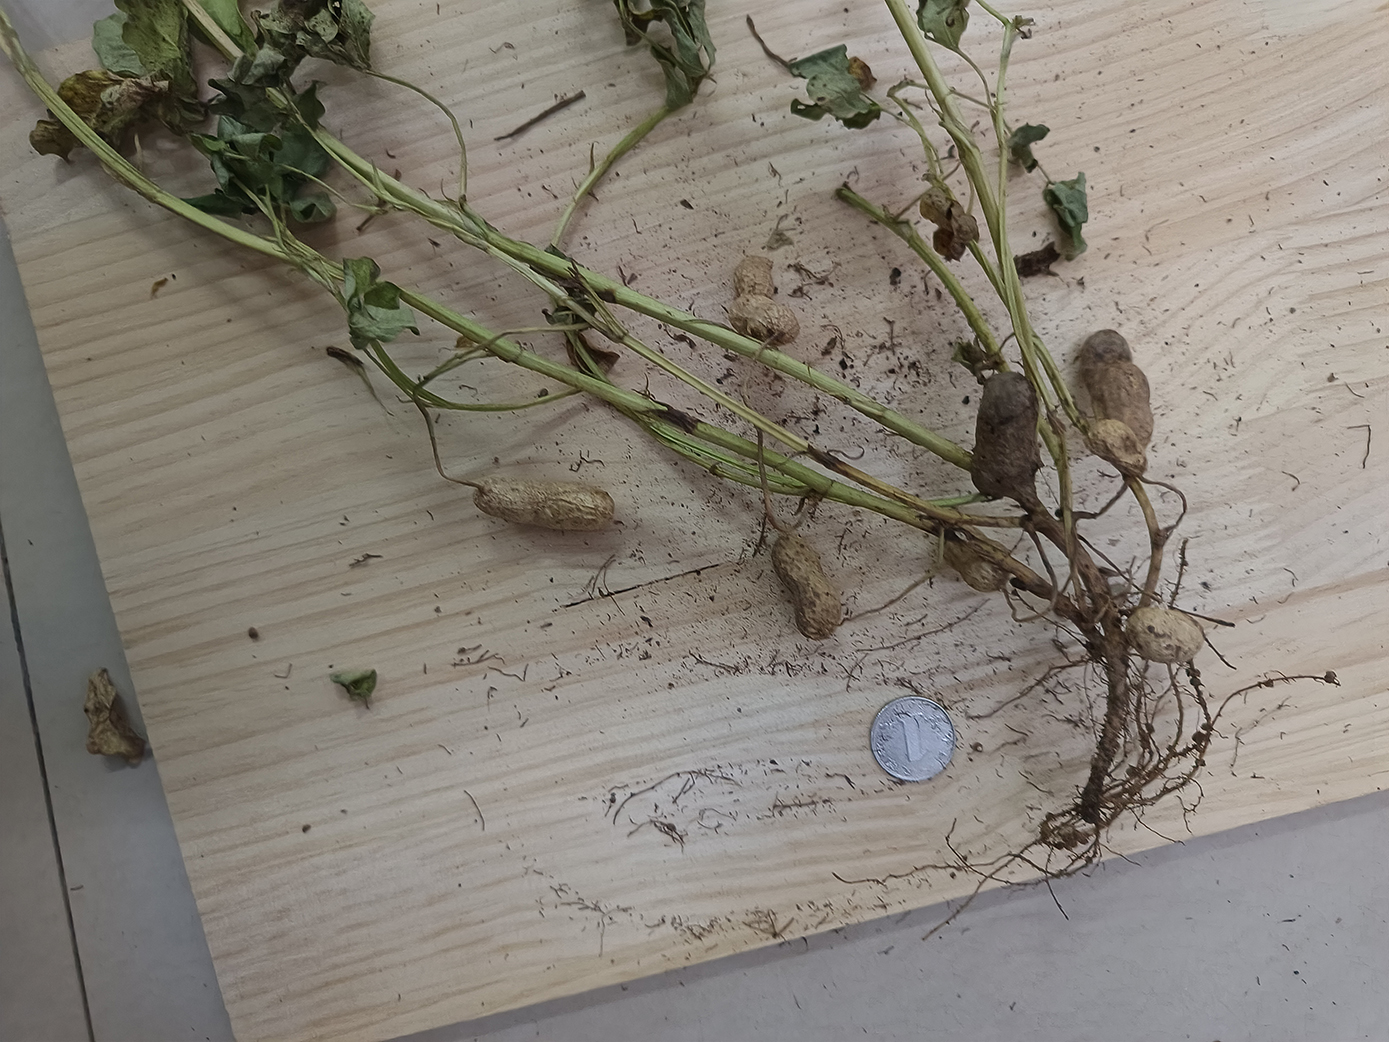h: (471, 476, 614, 534), (771, 535, 843, 639), (728, 252, 800, 346), (937, 536, 1012, 593), (1127, 605, 1202, 660), (1086, 420, 1146, 472)
l: (969, 372, 1040, 497), (1083, 331, 1151, 449)
